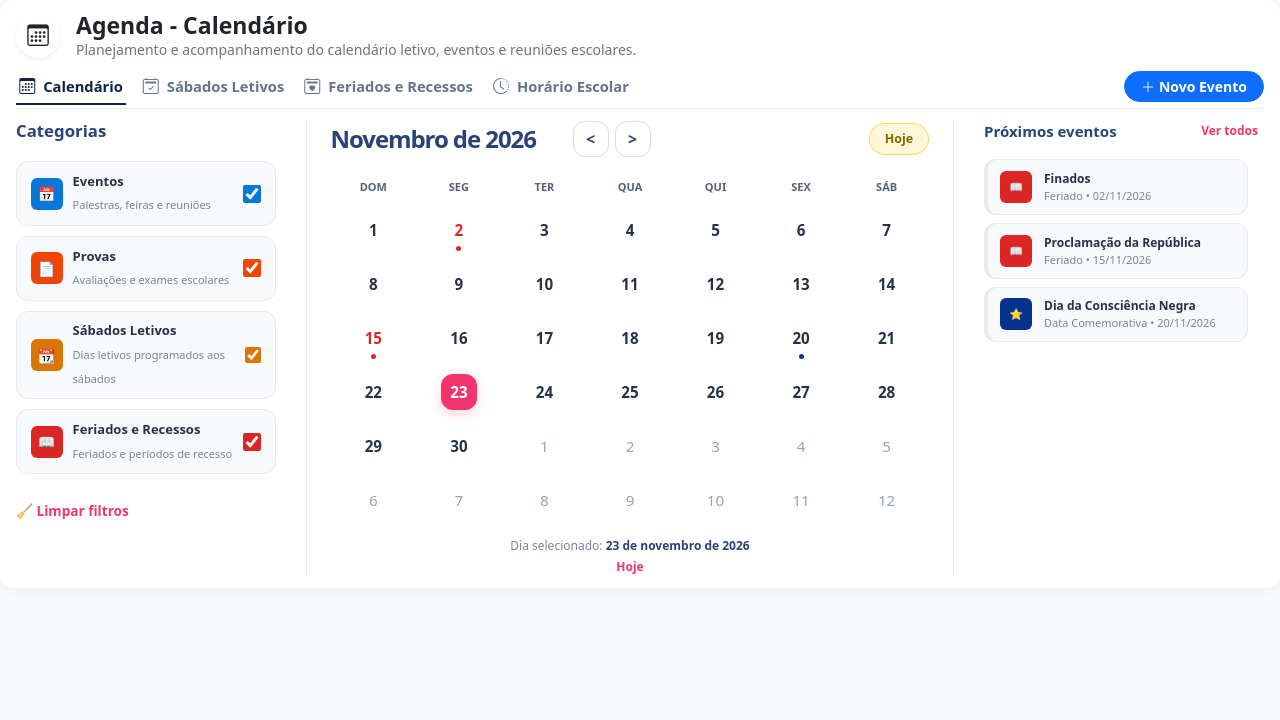
Test: AgendaPage › oculta Cadastro em Massa para Aluno mas permite abrir modal de Novo Evento pessoal
The image size is (1280, 720).
What coordinates should you click on to do the following:
click the button "Novo Evento"
I would click on:
 (1194, 87)
Its box is x1=1124 y1=71 x2=1264 y2=102.
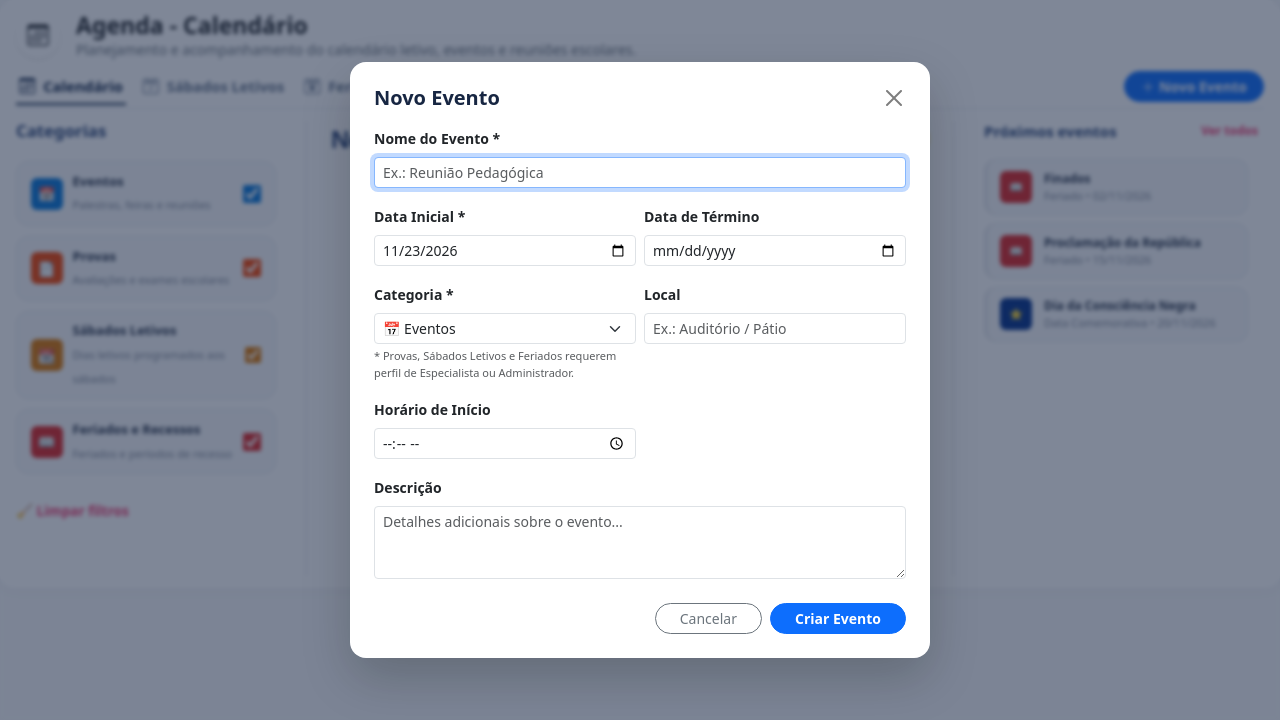
Check: the dialog "Novo Evento" is shown, box x1=350 y1=62 x2=930 y2=658
